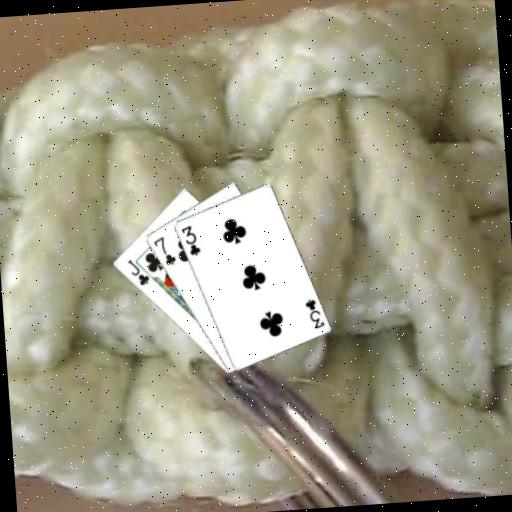3C: (178, 222, 202, 258), (302, 295, 326, 331)
7C: (150, 233, 178, 268)
JC: (125, 255, 152, 288)
